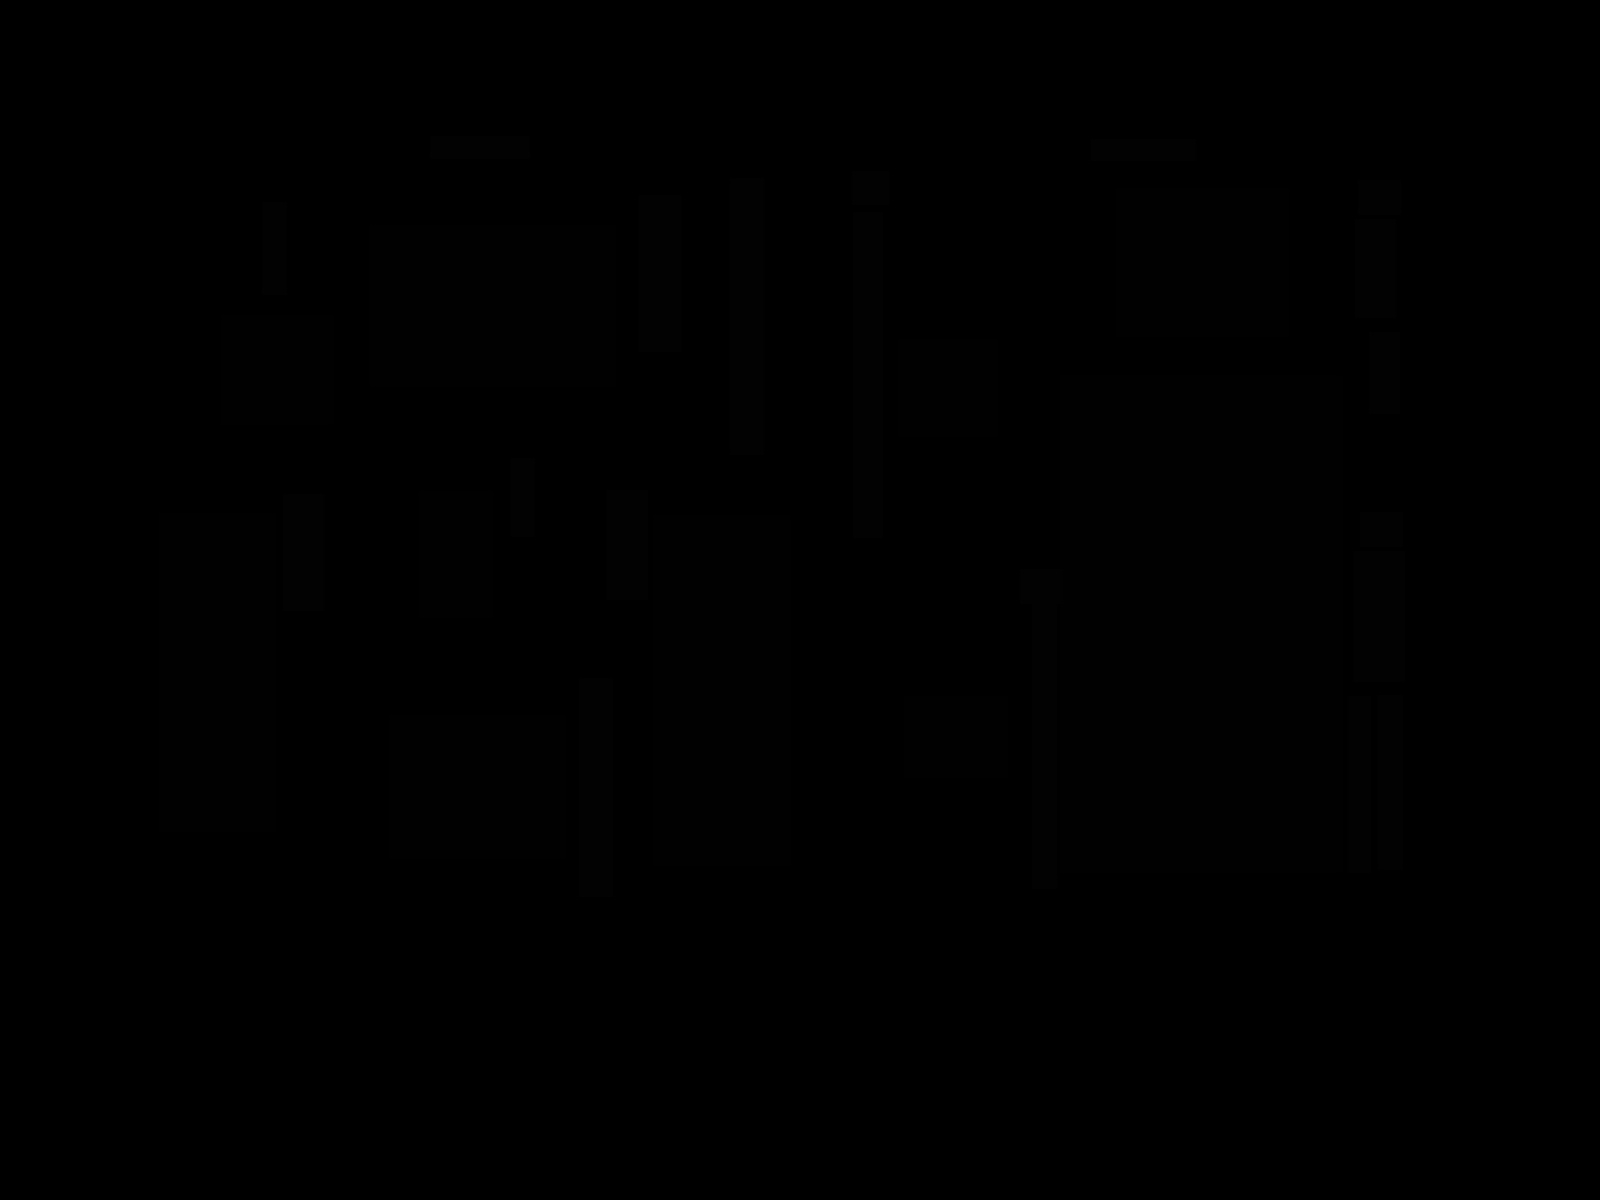1_overall: (89, 55, 1533, 1001)
3_typography: (853, 212, 883, 538), (729, 178, 763, 455), (580, 678, 614, 897), (1032, 604, 1057, 889), (1353, 551, 1405, 682), (639, 195, 682, 352), (283, 494, 324, 611), (606, 490, 648, 600), (1378, 695, 1403, 870), (1348, 696, 1371, 874), (1356, 219, 1396, 318), (1369, 332, 1400, 413), (1091, 139, 1196, 161), (262, 202, 287, 295), (430, 136, 530, 159), (511, 458, 535, 537)
4_illustration: (1060, 376, 1343, 874), (653, 516, 791, 866), (369, 224, 616, 387), (159, 513, 276, 832), (1116, 188, 1289, 337), (389, 715, 566, 858), (220, 315, 334, 425), (898, 339, 998, 437), (420, 492, 493, 618), (905, 696, 1008, 778)
5_stamp: (1361, 512, 1403, 547), (1358, 180, 1401, 216), (1020, 568, 1063, 604), (852, 171, 889, 205)
